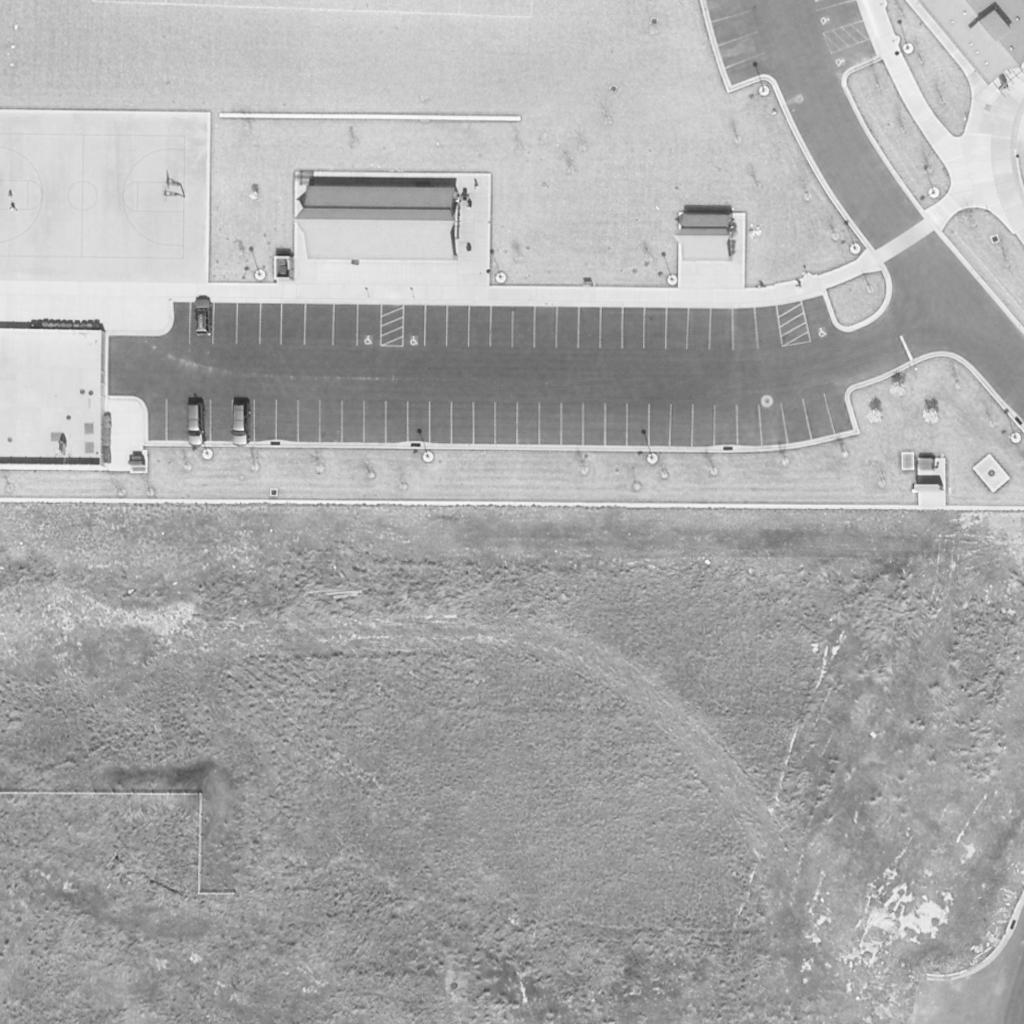vehicle: (191, 297, 213, 339), (231, 403, 251, 445), (186, 402, 204, 446)
